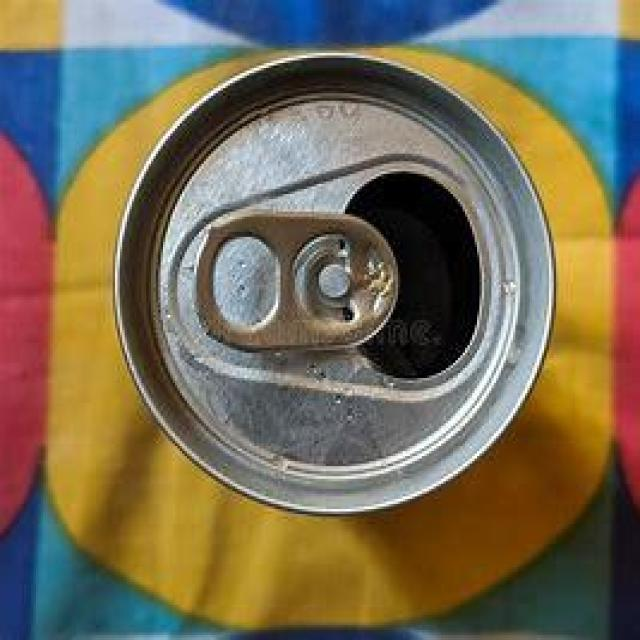can: (110, 53, 558, 518)
pop tab: (192, 209, 401, 353)
